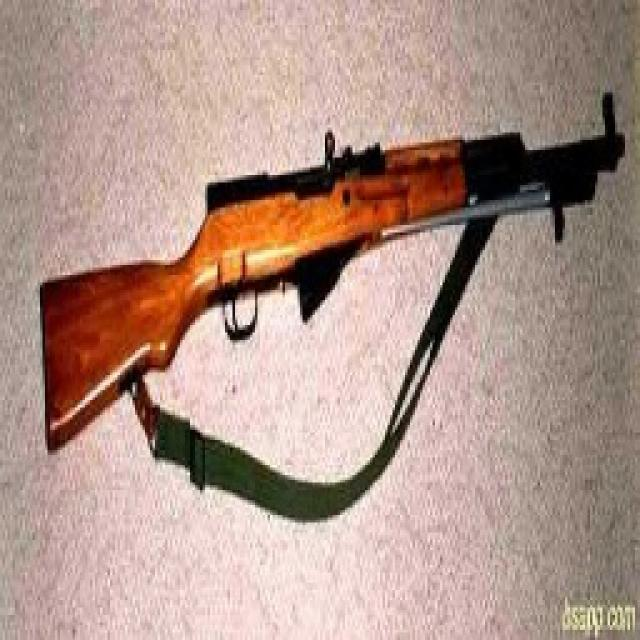long weapon: (9, 57, 632, 480)
